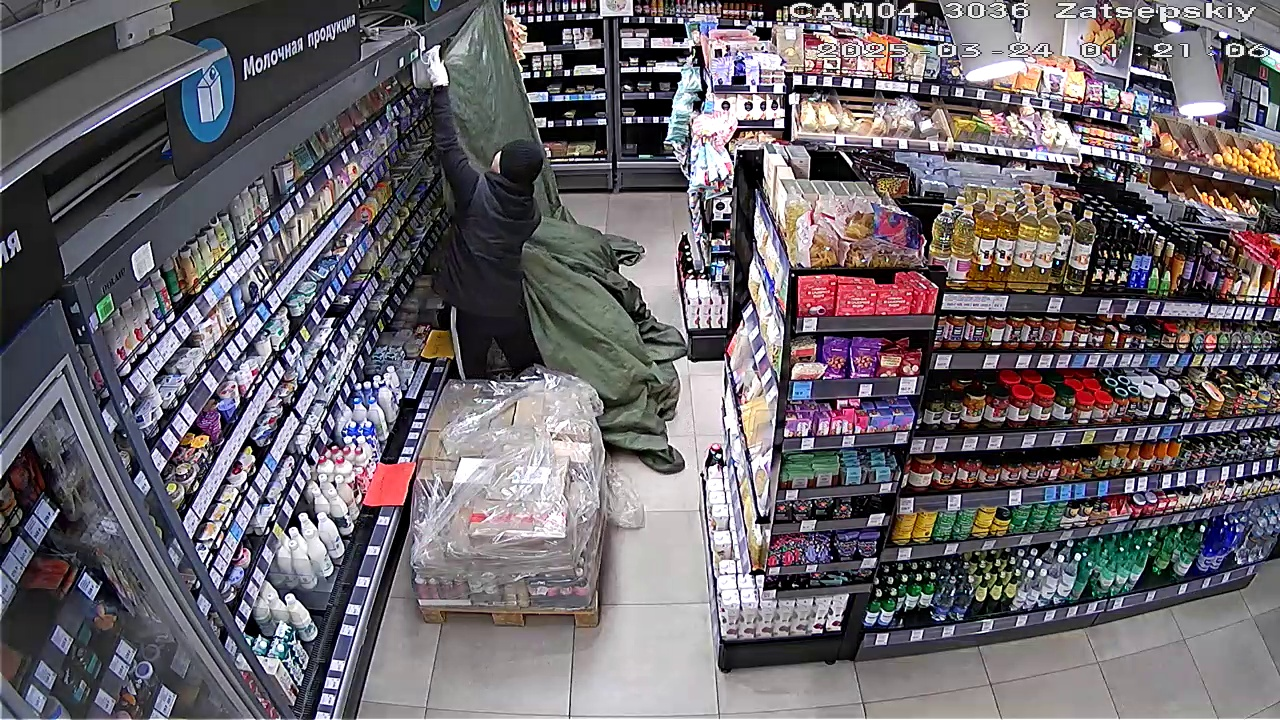Human: (412, 29, 543, 365)
pallet: (420, 367, 597, 627)
